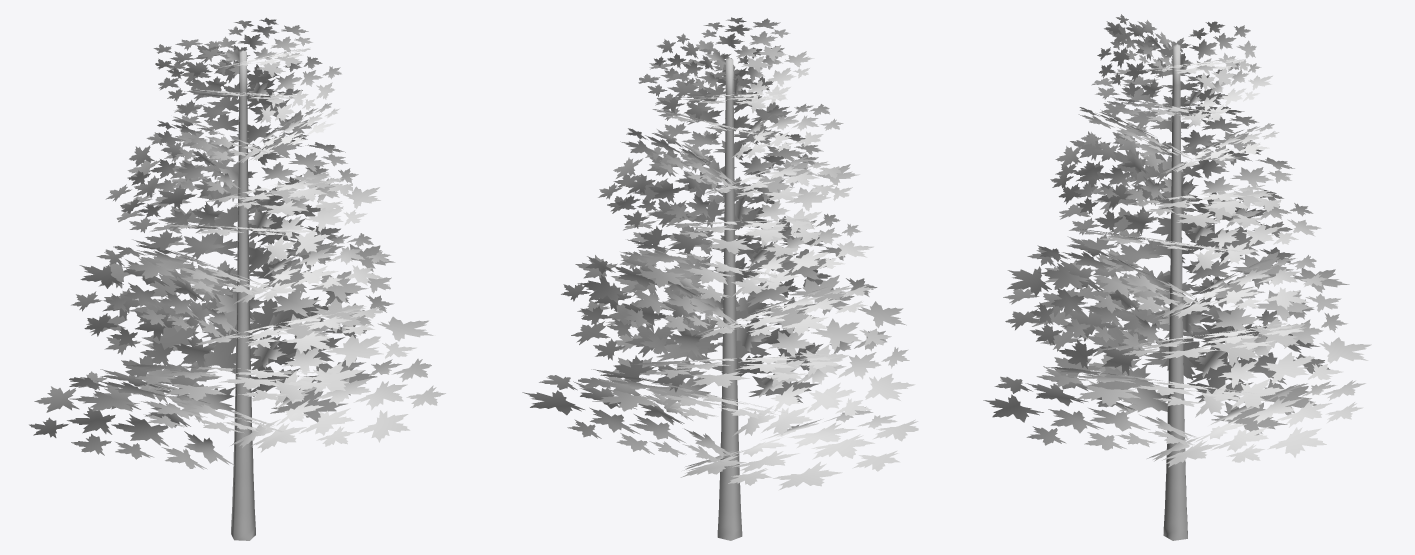
The model's file is Bush02.fbx.
3 renders of one model, left to right at view 1: azimuth 30°, elevation 25°; view 2: azimuth 150°, elevation 25°; view 3: azimuth 270°, elevation 25°, orthographic. The views are drawn at different scales.
Visible parts, largest first — view 1: mapleleaftex_1, _0; view 2: mapleleaftex_1, _0; view 3: mapleleaftex_1, _0.
Boxes of the visible parts, box(x1,y1,x2,y2) form: mapleleaftex_1: box(29, 17, 445, 469); _0: box(231, 50, 255, 540); mapleleaftex_1: box(522, 17, 918, 490); _0: box(717, 57, 742, 540); mapleleaftex_1: box(983, 14, 1371, 467); _0: box(1163, 44, 1187, 540).
Size of the model in its own units: 61.36 by 77.8 by 61.14.
